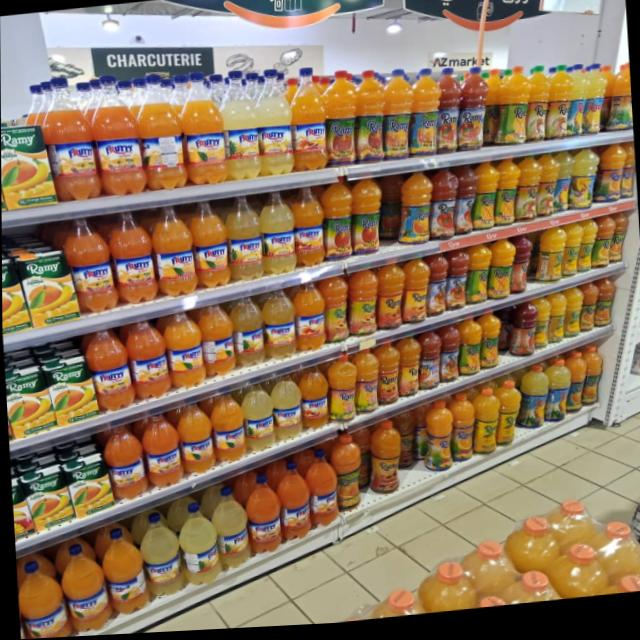ramy_carton: (12, 247, 77, 331), (16, 452, 76, 536), (40, 346, 99, 429), (61, 443, 115, 523), (1, 116, 47, 209), (5, 373, 51, 439)
ramy_plastique: (37, 77, 102, 205), (87, 75, 145, 200), (132, 73, 186, 194), (58, 215, 121, 317), (177, 72, 228, 190), (216, 70, 262, 187), (57, 542, 113, 634), (251, 70, 296, 181), (107, 212, 158, 307), (15, 557, 72, 640), (82, 329, 137, 413), (98, 529, 149, 619), (288, 71, 330, 177), (149, 206, 197, 298), (136, 513, 185, 602), (175, 502, 222, 588), (123, 319, 170, 402), (189, 201, 232, 290), (323, 72, 361, 171), (352, 70, 389, 168), (223, 197, 264, 285), (101, 429, 149, 504), (139, 412, 184, 491), (208, 489, 250, 573), (257, 191, 297, 278), (161, 311, 205, 390), (381, 70, 417, 166), (407, 71, 444, 163), (243, 477, 283, 560), (273, 463, 313, 545), (288, 185, 326, 270), (456, 69, 492, 156), (319, 181, 355, 266), (174, 403, 215, 477), (328, 435, 364, 519), (498, 68, 534, 152), (227, 295, 267, 370), (349, 178, 384, 262), (196, 304, 235, 379), (367, 423, 404, 502), (303, 451, 339, 532), (207, 393, 246, 466), (259, 289, 298, 362), (400, 173, 435, 252), (291, 280, 328, 352), (239, 383, 276, 455), (325, 354, 360, 427), (426, 171, 460, 245), (422, 403, 456, 477), (468, 390, 502, 463), (545, 69, 577, 146), (316, 276, 351, 346), (269, 373, 304, 443), (514, 370, 550, 437), (346, 272, 381, 340), (296, 365, 330, 435), (593, 147, 629, 212), (579, 68, 610, 143), (567, 151, 602, 217), (445, 398, 477, 470), (524, 69, 553, 148), (451, 166, 481, 242), (374, 265, 407, 333), (470, 166, 501, 238), (513, 159, 544, 228), (351, 348, 382, 417), (492, 162, 522, 233), (492, 385, 522, 455), (400, 263, 432, 328), (376, 177, 406, 246), (604, 69, 632, 140), (543, 365, 574, 429), (483, 73, 508, 152), (486, 243, 518, 304), (372, 343, 402, 408), (463, 248, 494, 310), (535, 232, 569, 288), (506, 306, 539, 363), (534, 156, 562, 223), (443, 253, 472, 315), (549, 155, 576, 221), (391, 413, 419, 475), (562, 356, 589, 420), (394, 339, 422, 400), (416, 334, 444, 395), (579, 350, 606, 413), (455, 321, 483, 381), (423, 260, 451, 320), (507, 238, 535, 297), (475, 316, 502, 374), (559, 228, 586, 283), (590, 220, 617, 273), (575, 224, 601, 279), (529, 300, 555, 354), (545, 296, 570, 348), (592, 282, 618, 330), (562, 292, 586, 342), (577, 287, 601, 336), (607, 218, 630, 267)
